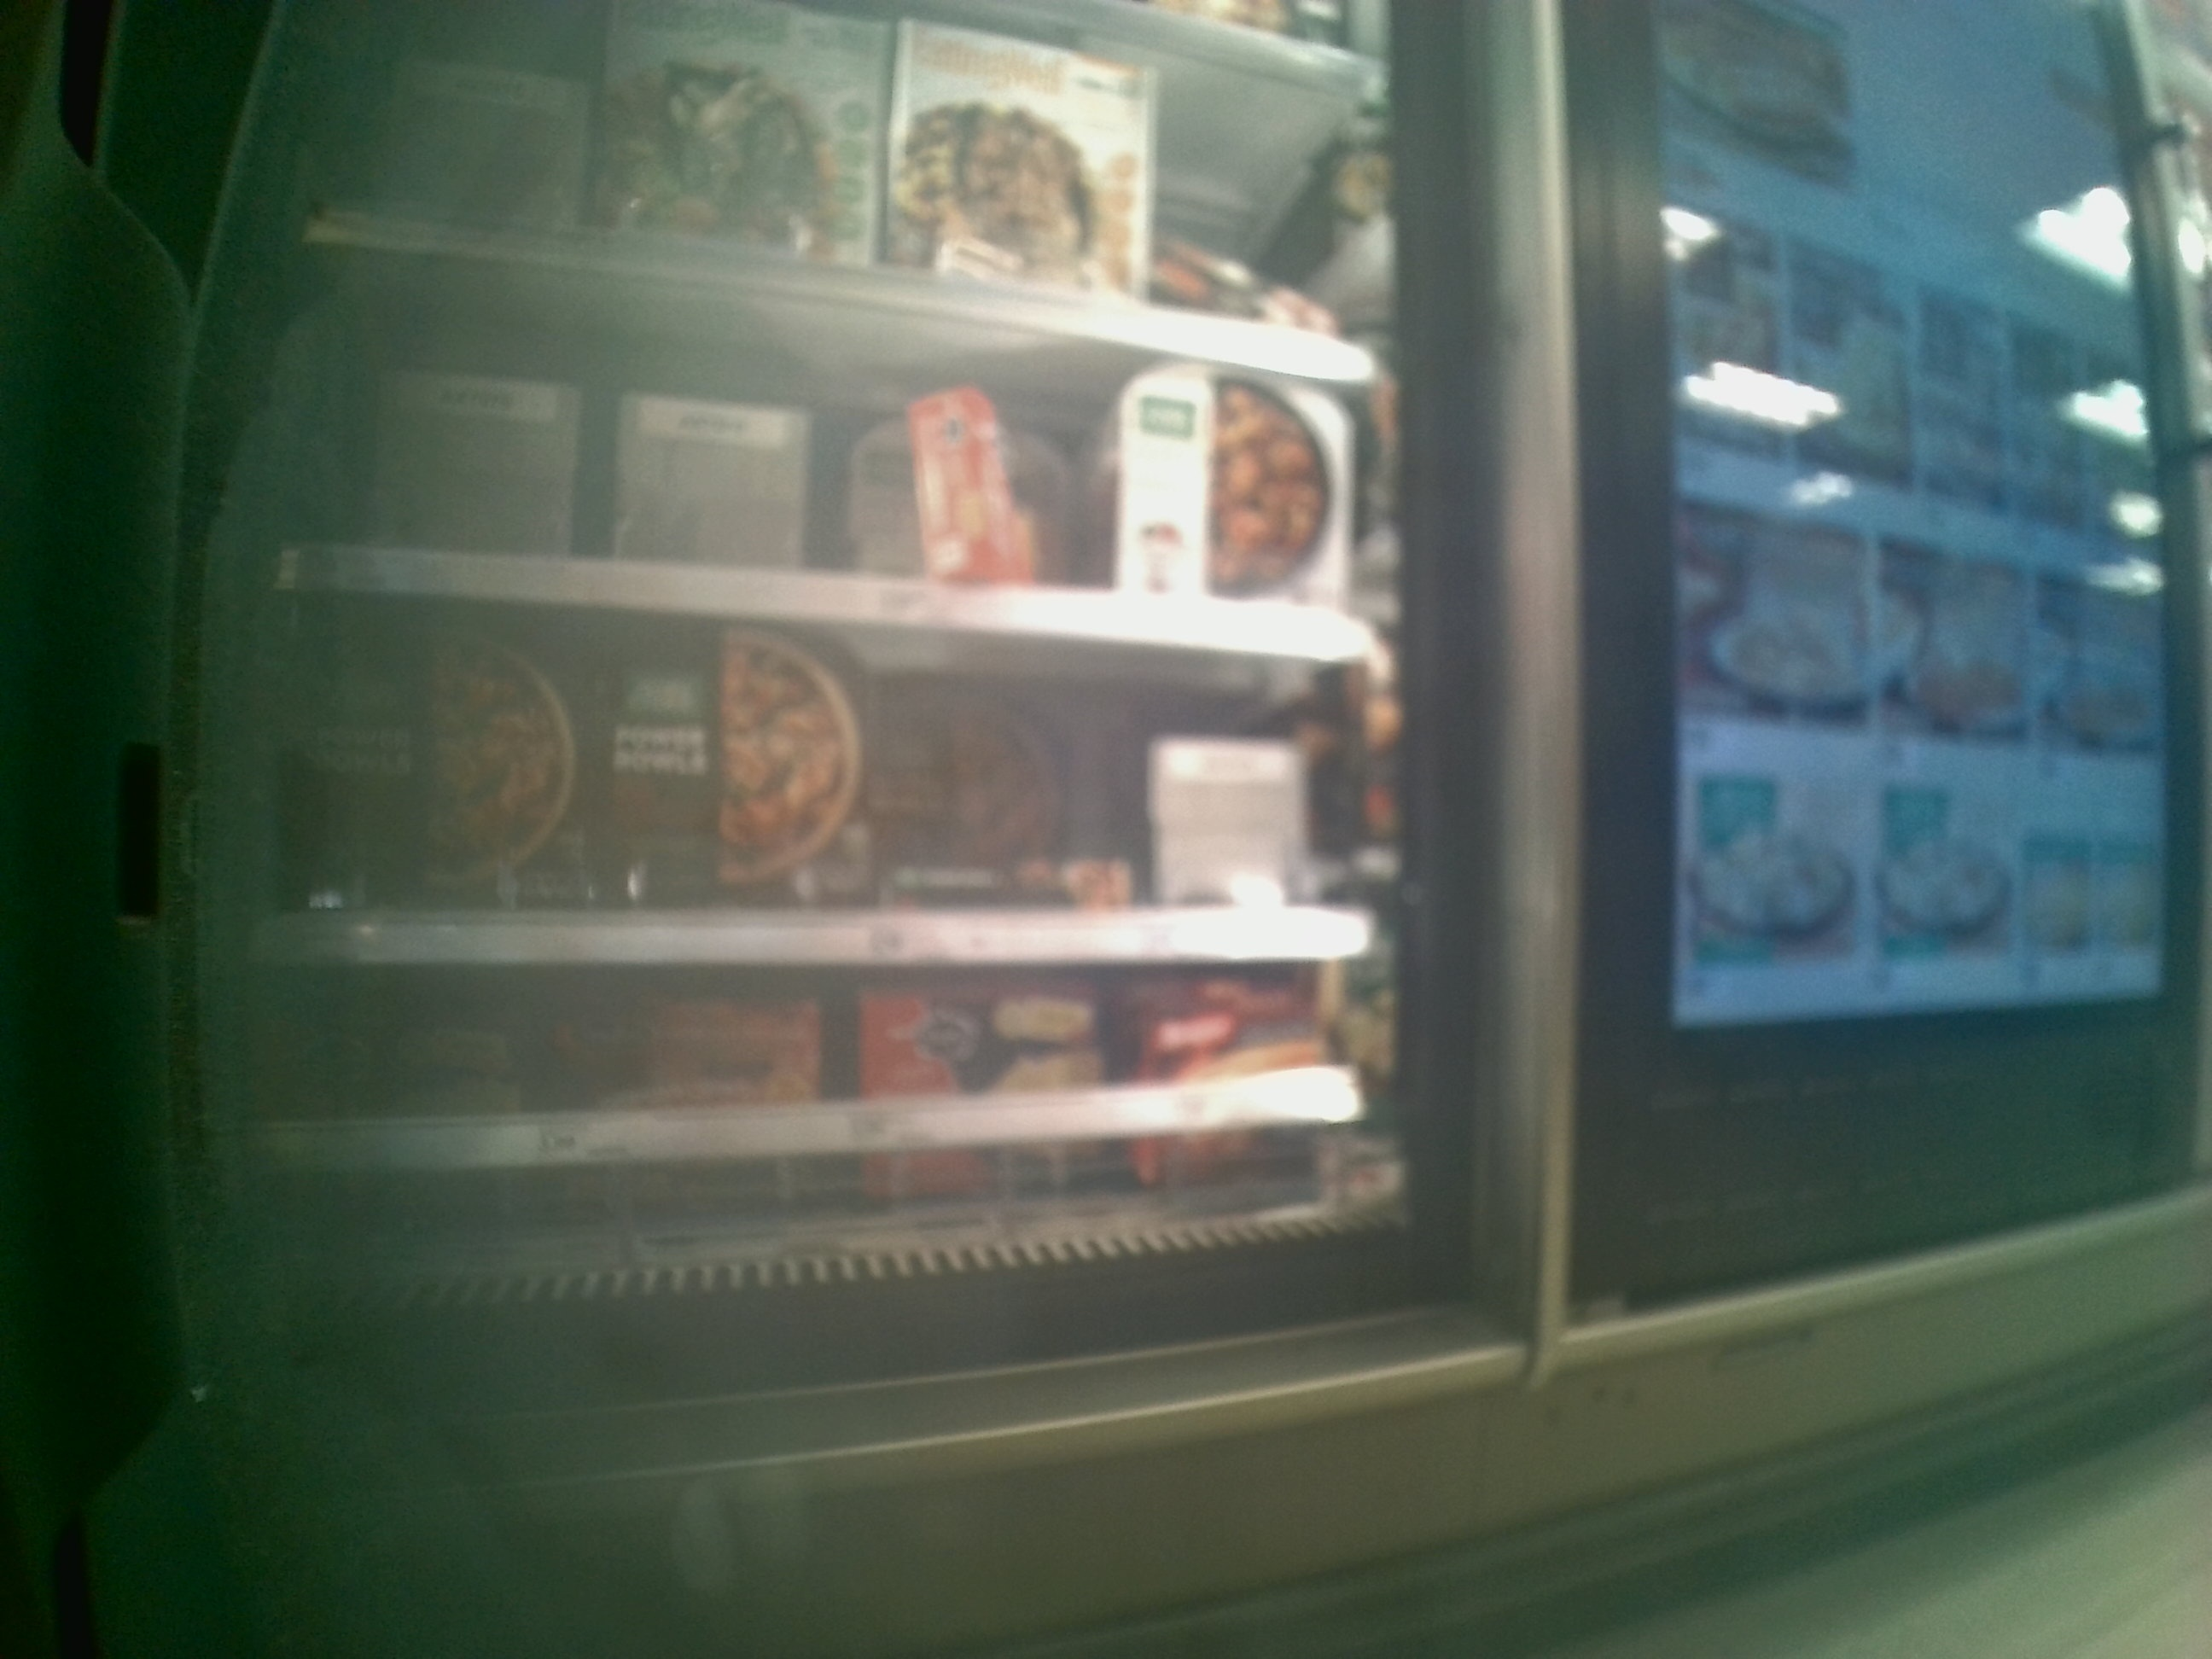shelf: (291, 232, 1385, 664), (265, 591, 1393, 962), (244, 964, 1420, 1284)
